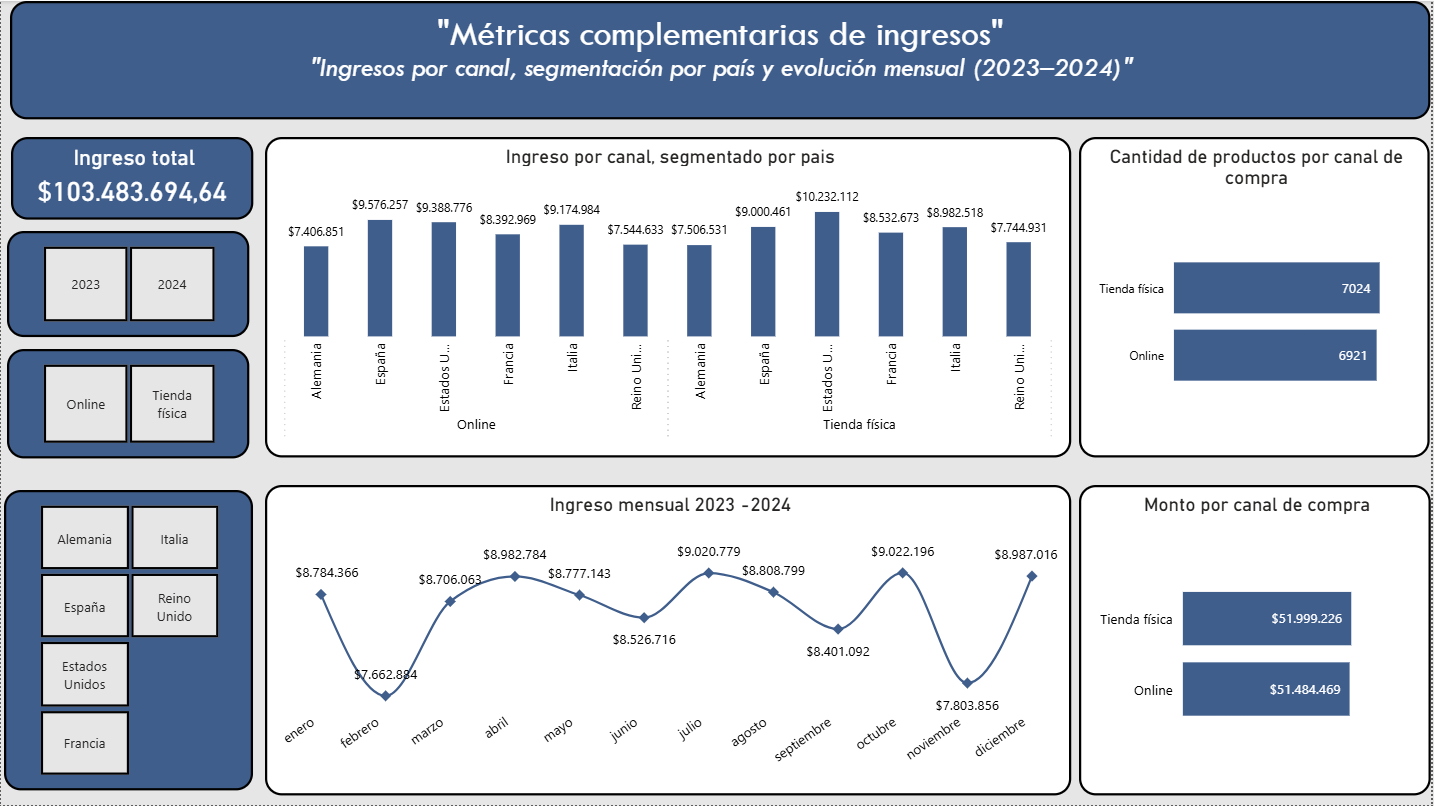

What the dashboard file says about the page in this screenshot:
{"tool":"powerbi","page":{"name":"KPIs  complementarios","canvas":[1280,720],"ordinal":1},"visuals":[{"type":"clusteredColumnChart","title":"Ingreso por canal, segmentado por pais\n","fields":{"Category":["Tabla_Ventas.Canal de compra","Tabla_Ventas.Pais"],"Y":["Sum(Tabla_Ventas.Monto)"]},"box":[236.4,121.8,721.8,286.6],"z":0},{"type":"clusteredBarChart","title":"Cantidad de productos por canal de compra\n","fields":{"Category":["Tabla_Ventas.Canal de compra"],"Y":["CountNonNull(Tabla_Ventas.Cantidad)"]},"box":[965,122,314,287],"z":1000},{"type":"clusteredBarChart","title":"Monto  por canal de compra\n","fields":{"Category":["Tabla_Ventas.Canal de compra"],"Y":["Sum(Tabla_Ventas.Monto)"]},"box":[965,433,315,278],"z":2000},{"type":"lineChart","title":"Ingreso mensual 2023 -2024\n","fields":{"Category":["Tabla_Ventas.Fecha compra.Variación.Jerarquía de fechas.Mes"],"Y":["Sum(Tabla_Ventas.Monto)"]},"box":[236,433,722,278],"z":3000},{"type":"slicer","fields":{"Values":["Tabla_Ventas.Pais"]},"box":[2.7,437.9,223,268.7],"z":4000},{"type":"slicer","title":"Años","fields":{"Values":["Tabla_Ventas.Fecha compra.Variación.Jerarquía de fechas.Año"]},"box":[5,205.6,216.7,94.7],"z":5000},{"type":"slicer","fields":{"Values":["Tabla_Ventas.Canal de compra"]},"box":[5,311.4,216.7,97.8],"z":6000},{"type":"textbox","box":[8,0,1272,106],"z":7000},{"type":"card","title":"Ingreso total","fields":{"Values":["Sum(Tabla_Ventas.Monto)"]},"box":[9.1,122,216.7,73.6],"z":8000}]}

Visuals, with their boxes in screenshot pixels (x1, y1, x2, y2), scaled from the page's 1280x720 canvas onto the 1434x806 screenshot:
"Ingreso por canal, segmentado por pais
" clusteredColumnChart: pyautogui.locateOnScreen(265, 136, 1073, 457)
"Cantidad de productos por canal de compra
" clusteredBarChart: pyautogui.locateOnScreen(1081, 137, 1433, 458)
"Monto  por canal de compra
" clusteredBarChart: pyautogui.locateOnScreen(1081, 485, 1433, 796)
"Ingreso mensual 2023 -2024
" lineChart: pyautogui.locateOnScreen(264, 485, 1073, 796)
slicer - Tabla_Ventas.Pais: pyautogui.locateOnScreen(3, 490, 253, 791)
"Años" slicer: pyautogui.locateOnScreen(6, 230, 248, 336)
slicer - Tabla_Ventas.Canal de compra: pyautogui.locateOnScreen(6, 349, 248, 458)
textbox: pyautogui.locateOnScreen(9, 0, 1433, 119)
"Ingreso total" card: pyautogui.locateOnScreen(10, 137, 253, 219)
